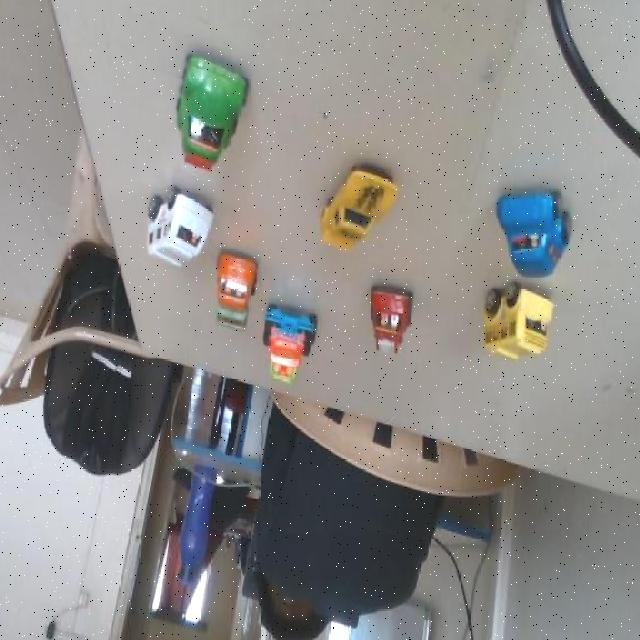car: (105, 0, 286, 208), (117, 156, 232, 298), (291, 147, 415, 261), (489, 179, 569, 282), (200, 233, 266, 349), (467, 270, 548, 362), (257, 301, 332, 397), (353, 270, 419, 364)
